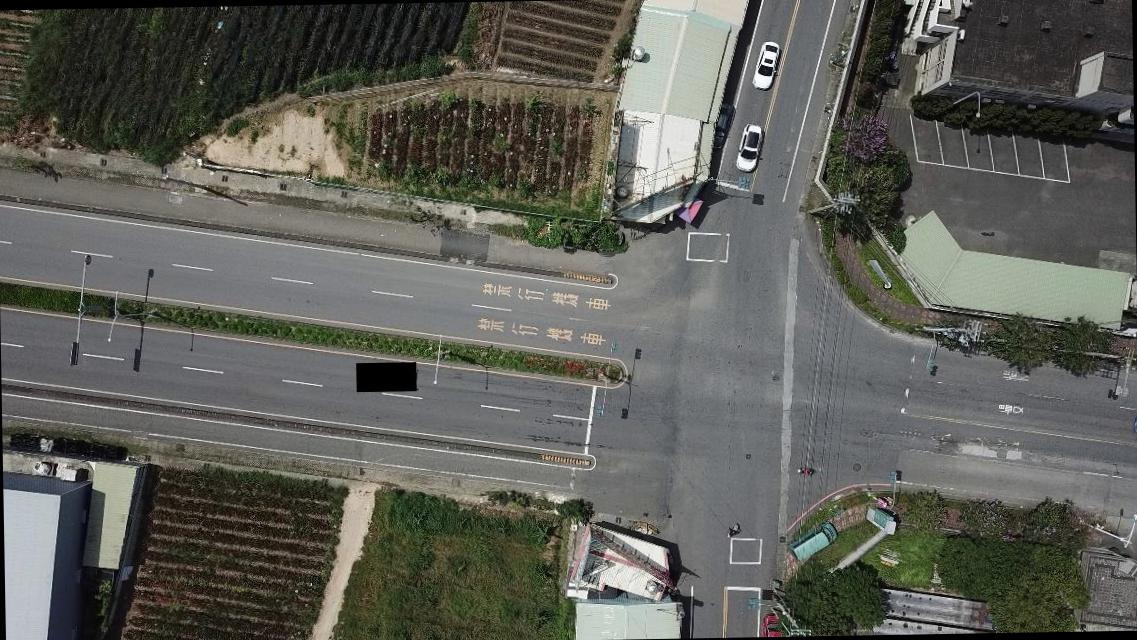vehicle: (748, 41, 784, 92), (790, 522, 838, 560), (707, 102, 734, 150), (736, 126, 763, 172), (760, 610, 786, 636)
